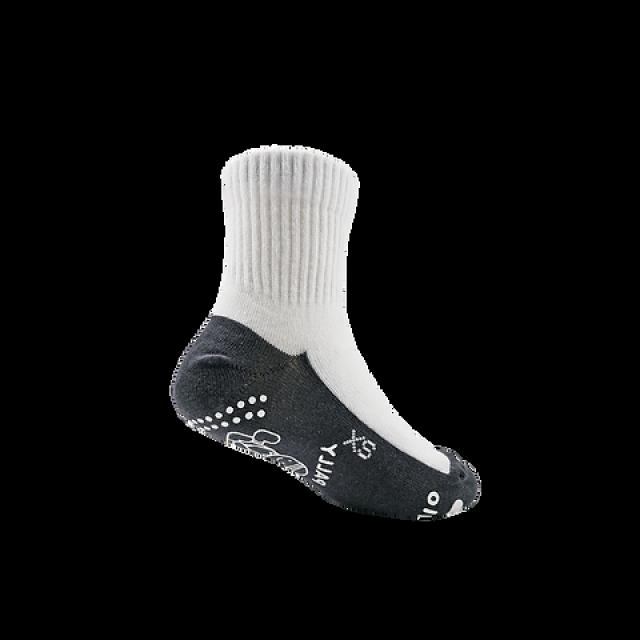sock: (168, 142, 481, 522)
